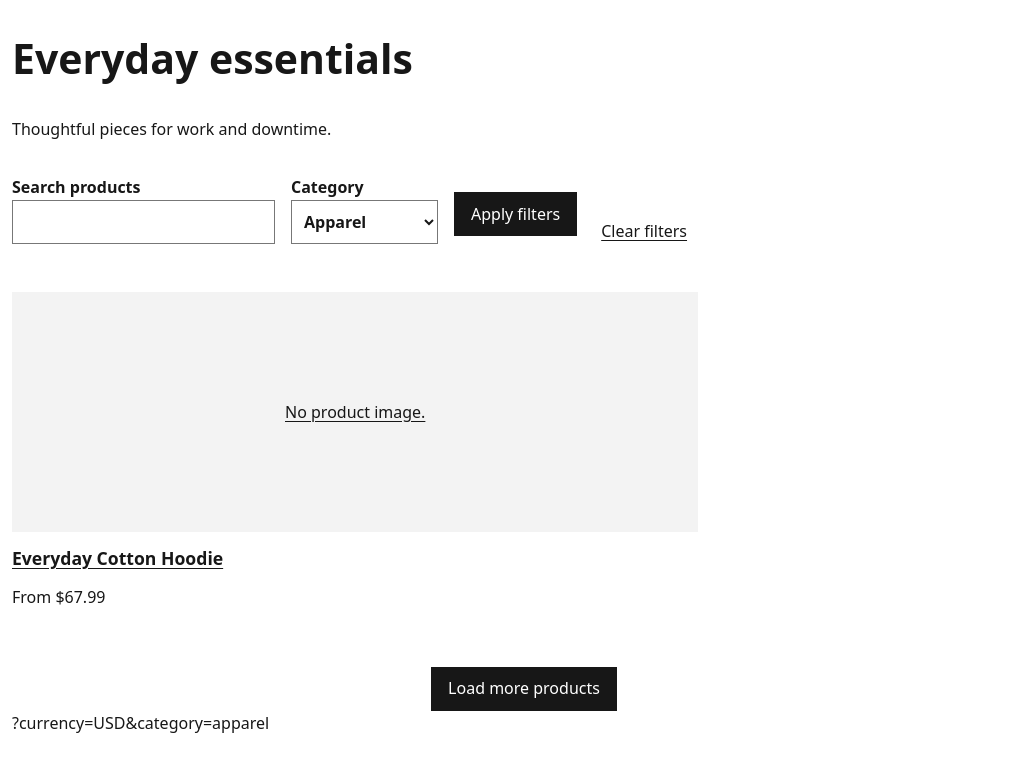
Scenario: product list pages › adds the next page below the first and moves focus to the first new product
Click the button "Load more products": [524, 689] box [431,667,617,711]
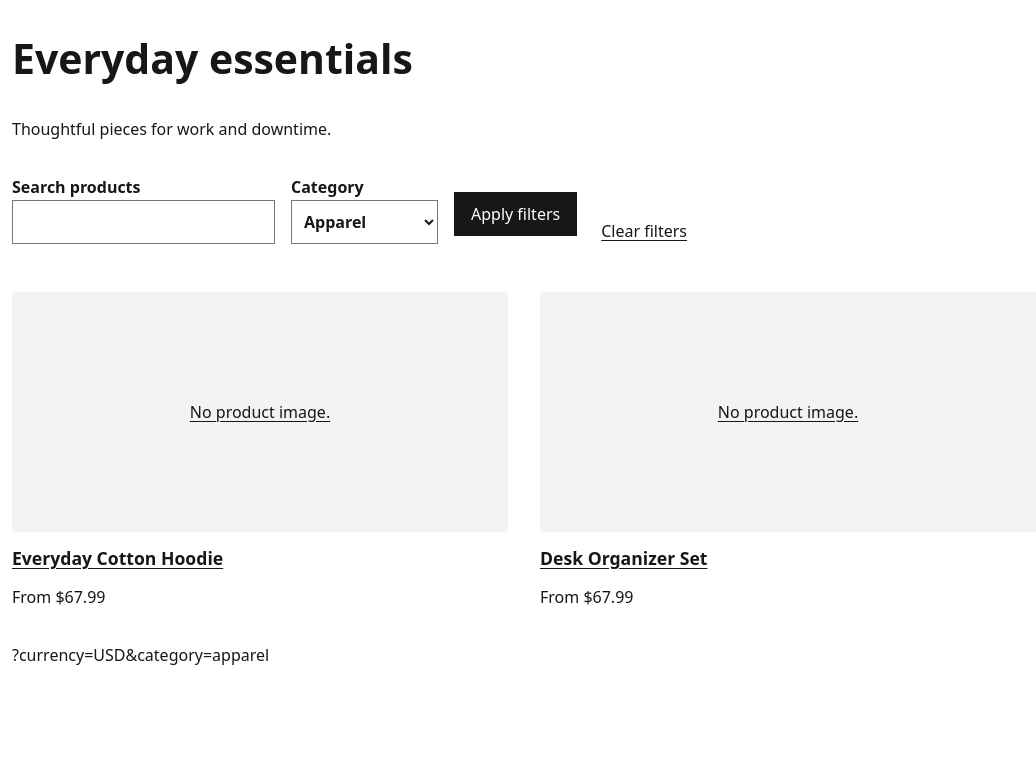
Expected: the heading "Everyday Cotton Hoodie" is shown, [12,546,223,570]
Expected: the button "more products" is gone
